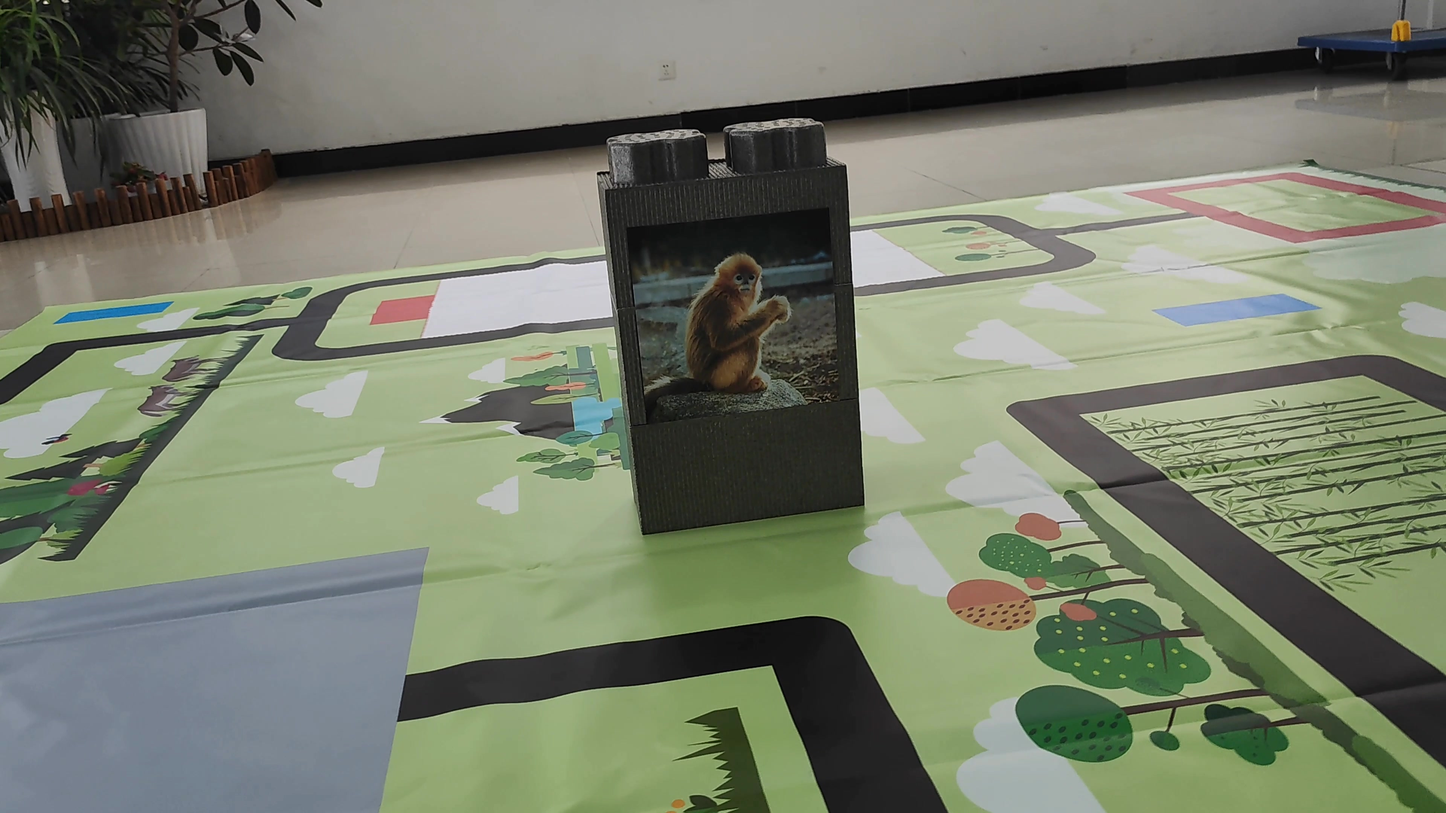monkey: (637, 232, 802, 427)
